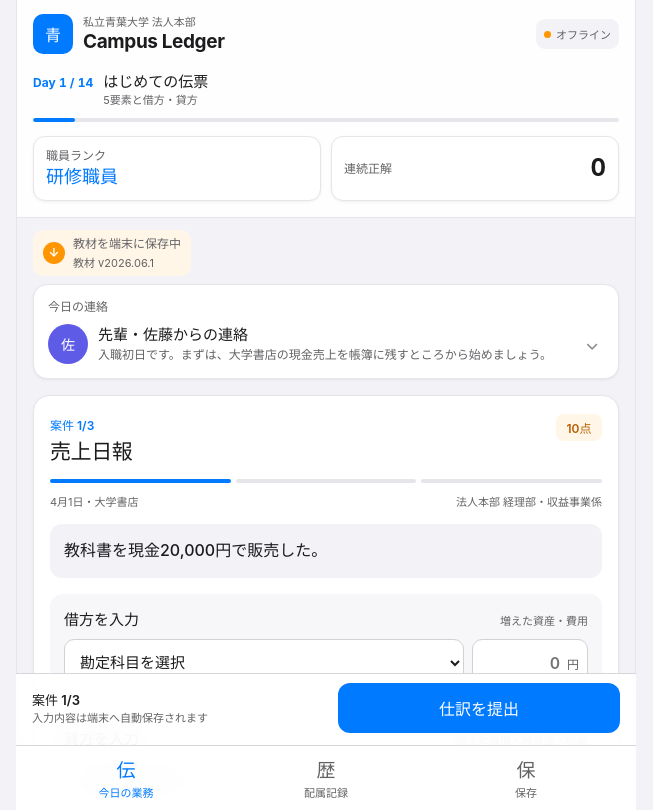
Campus Ledger app › keeps the story compact until the learner expands it
Expected: the text "経理部の先輩" is not shown
Click the button "先輩・佐藤からの連絡".
click(326, 346)  # box x1=34 y1=314 x2=618 y2=378
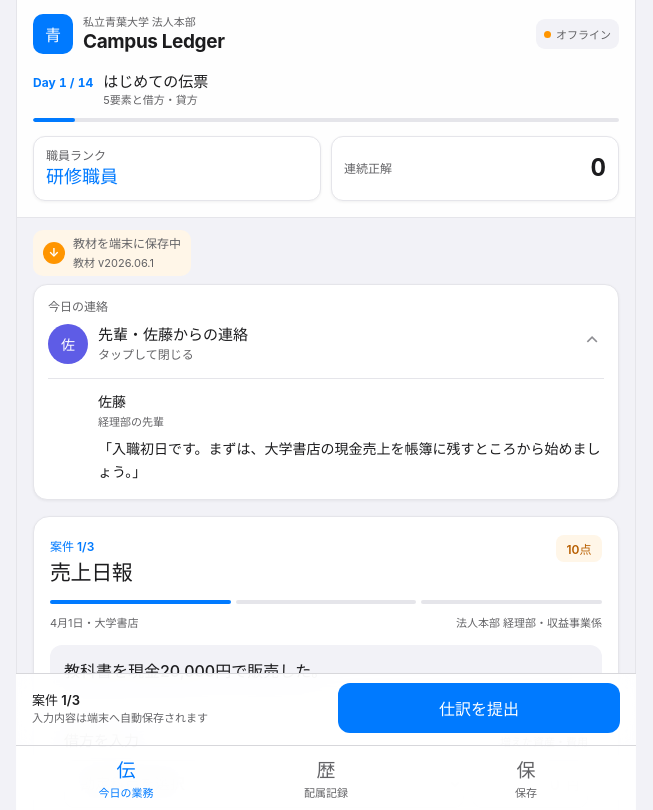
Result: the button "佐 先輩・佐藤からの連絡 タップして閉じる ⌃" is expanded at x1=34 y1=314 x2=618 y2=378
Result: the text "経理部の先輩" is shown at x1=98 y1=414 x2=164 y2=428
Result: the text "「入職初日です。まずは、大学書店の現金売上を帳簿に残すところから始めましょう。」" is shown at x1=98 y1=436 x2=604 y2=483
